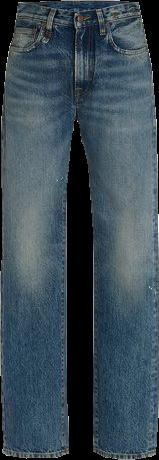Hemline: (90, 444, 156, 459), (1, 447, 69, 459)
Pantleg: (74, 2, 158, 458), (2, 1, 74, 457)
Waistline: (13, 13, 141, 31), (16, 0, 138, 12)
